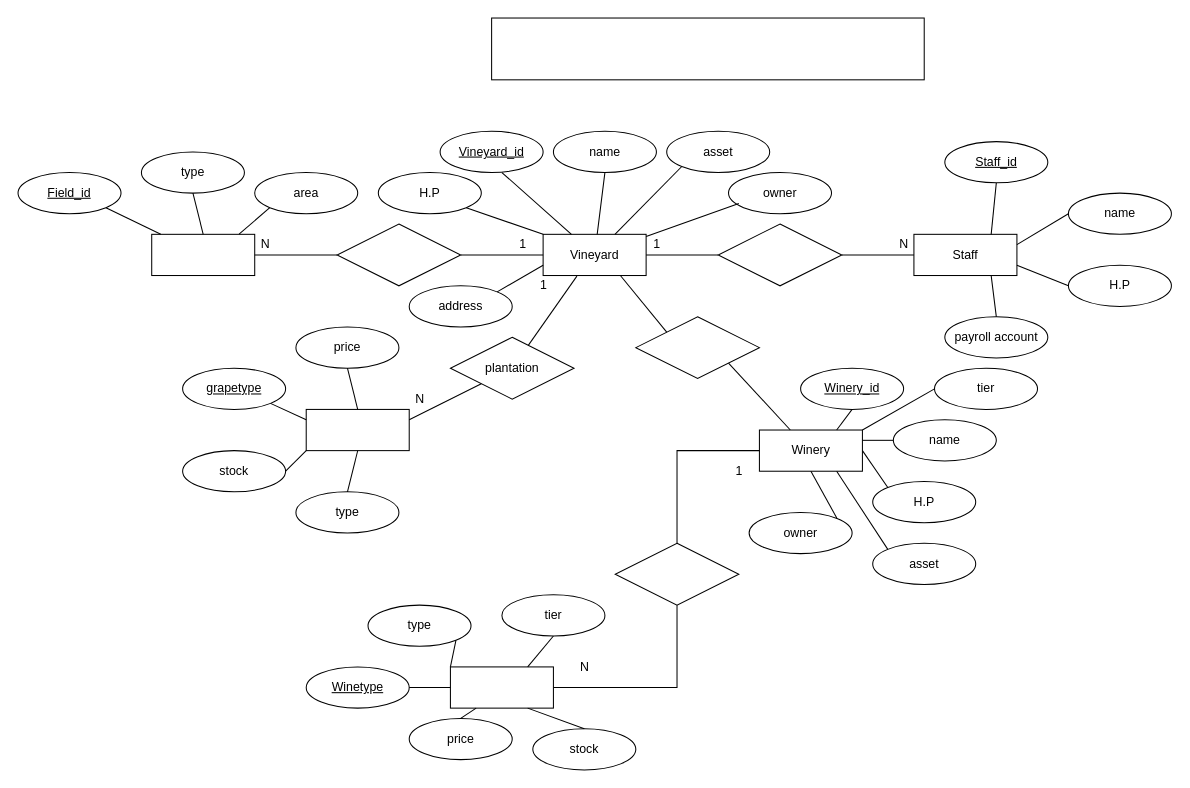
This 1190x788 diagram has some shape labels left out. The shapes that lost their labels are listed below. From the top down, each one's box as (x1, y1, x2, y2) in pixels, then its label:
(491, 17, 924, 80): Yonsei Valley
(151, 233, 255, 276): Field
(336, 223, 461, 286): management
(717, 223, 842, 286): work
(635, 316, 759, 379): transaction
(305, 408, 409, 451): grape
(614, 542, 739, 605): produce
(449, 666, 553, 708): Wine
